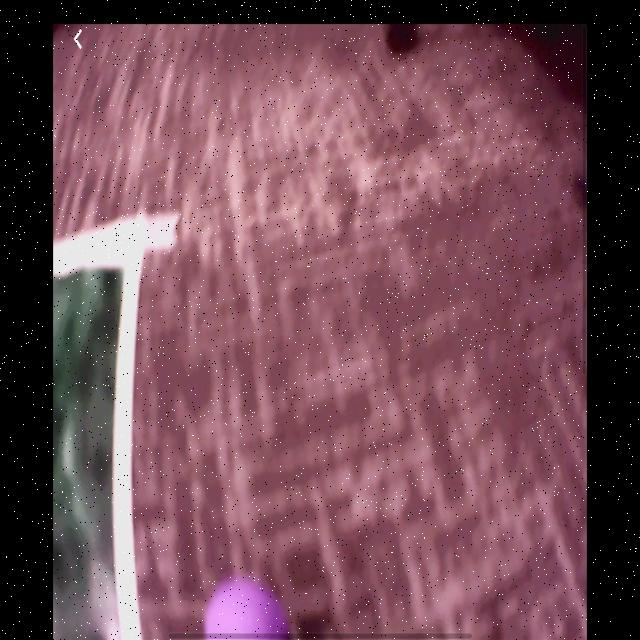ball: (202, 572, 290, 638)
